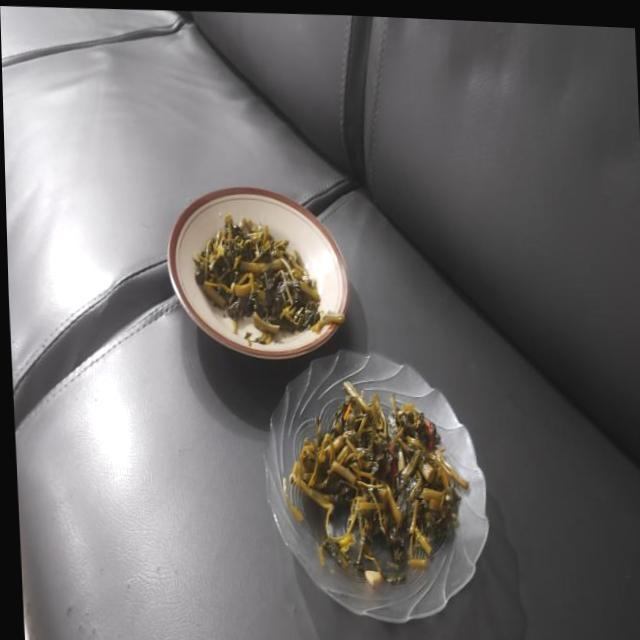tumis_kangkung: (282, 380, 468, 585), (192, 214, 343, 346)
